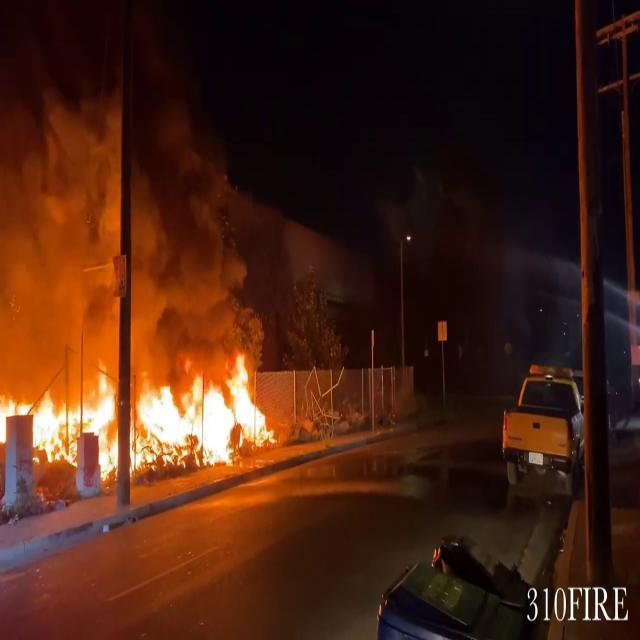Fire: (0, 350, 278, 474)
Smoke: (0, 39, 244, 350)
